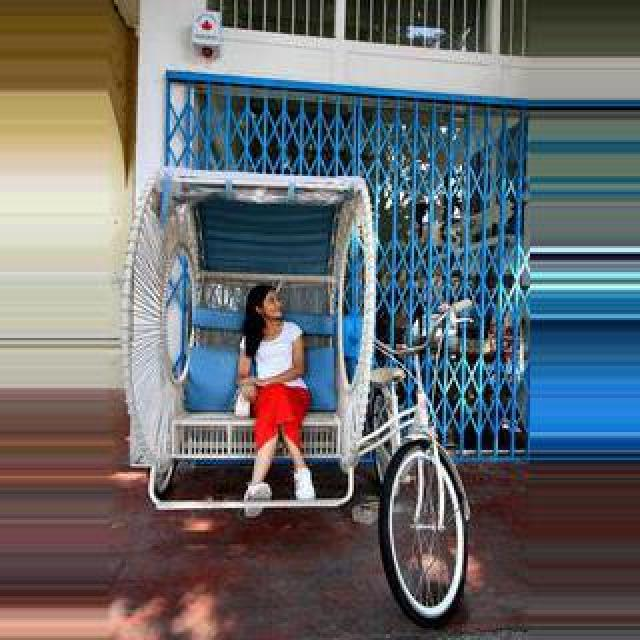Bus-Bike: (402, 24, 448, 48)
MC-Bike: (236, 288, 314, 506)
Person: (359, 301, 473, 623)
